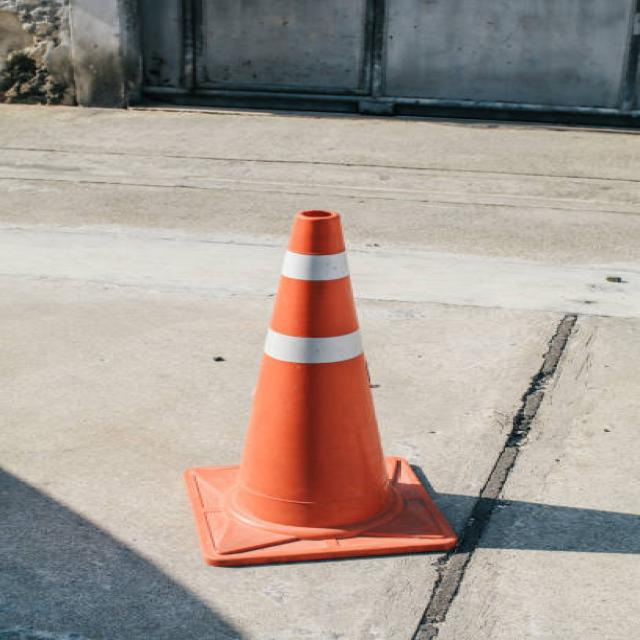Traffic Cone: (104, 168, 523, 602)
